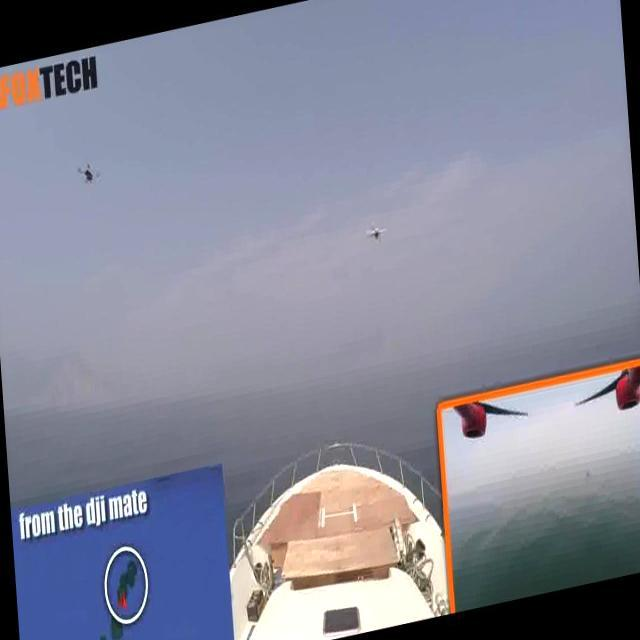drone: (70, 150, 108, 200), (362, 214, 387, 246)
